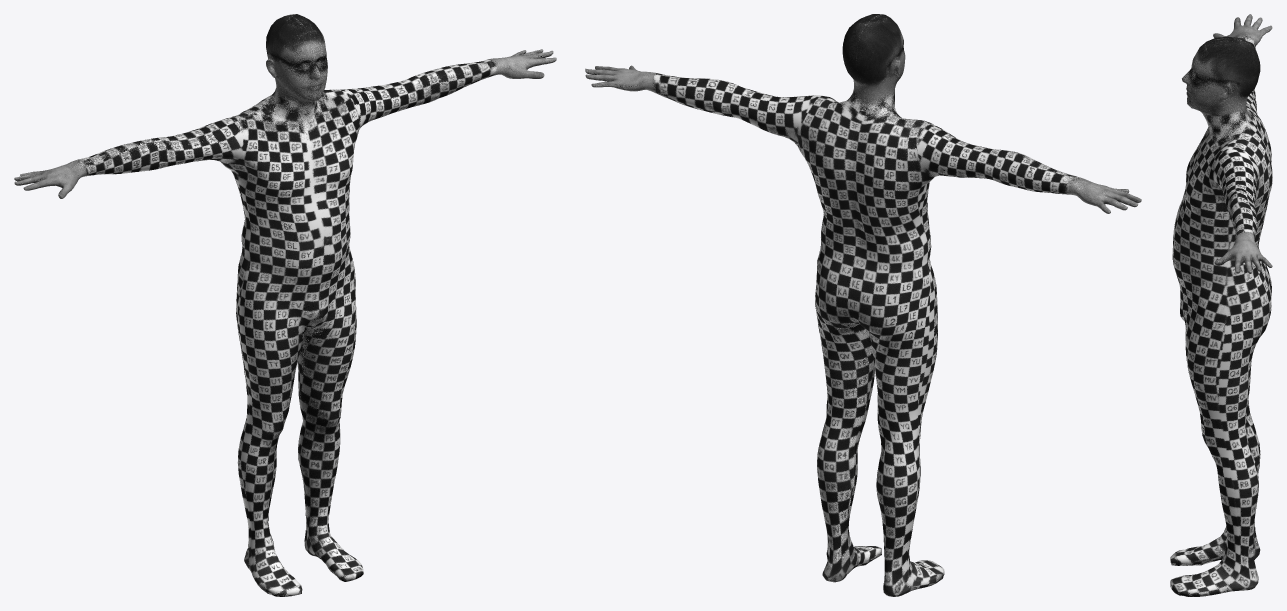
Rendered from SMPLWithSocks_Quad.obj.
3 views of the same model, side by side, from view 1: azimuth 30°, elevation 25°; view 2: azimuth 150°, elevation 25°; view 3: azimuth 270°, elevation 25° (orthographic). The views are drawn at different scales.
Parts seen in each view (by area): view 1: m_avg_Mesh; view 2: m_avg_Mesh; view 3: m_avg_Mesh.
Part boxes in pixels (x1,y1,x2,y2): m_avg_Mesh: [14, 14, 556, 596]; m_avg_Mesh: [585, 14, 1141, 596]; m_avg_Mesh: [1170, 14, 1272, 596].
Size of the model in its own units: 1.84 by 1.79 by 0.3098.
